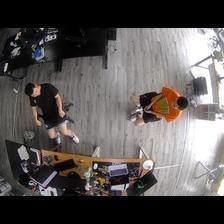normal: (26, 81, 79, 144), (126, 85, 187, 128)
